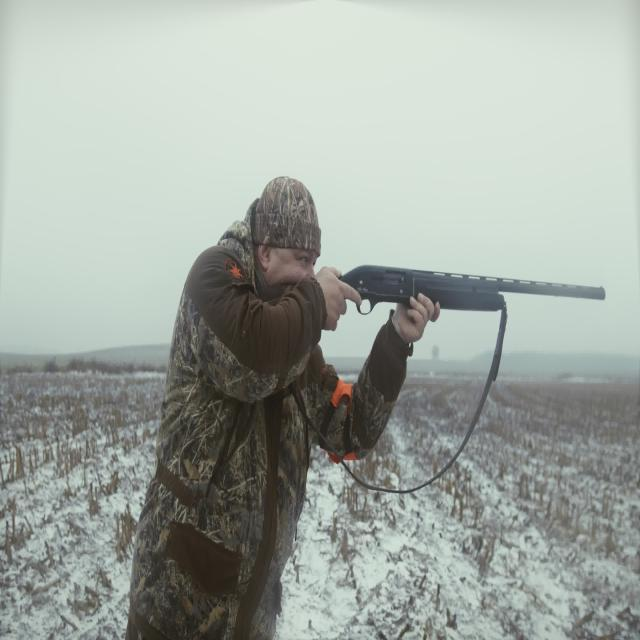poacher: (234, 206, 436, 619)
weapon: (347, 278, 630, 349)
